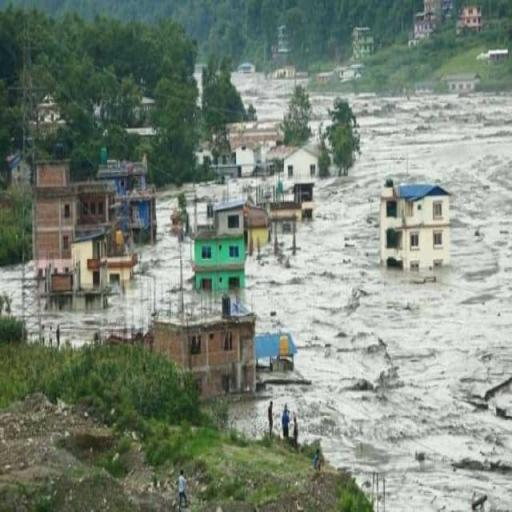flood: (232, 92, 512, 512), (0, 177, 279, 345), (233, 73, 296, 120), (311, 92, 337, 129)
house: (381, 180, 457, 278), (34, 161, 118, 245), (192, 320, 262, 398), (197, 198, 247, 288), (254, 330, 296, 372), (274, 145, 318, 181), (227, 134, 259, 168), (414, 1, 435, 39), (460, 3, 484, 33), (447, 72, 483, 92), (350, 24, 374, 52)
